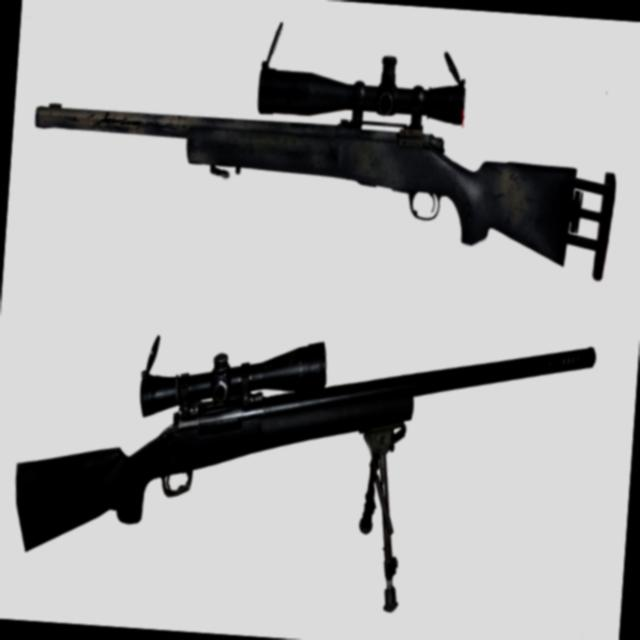rifle: (0, 282, 622, 632), (23, 5, 631, 298)
